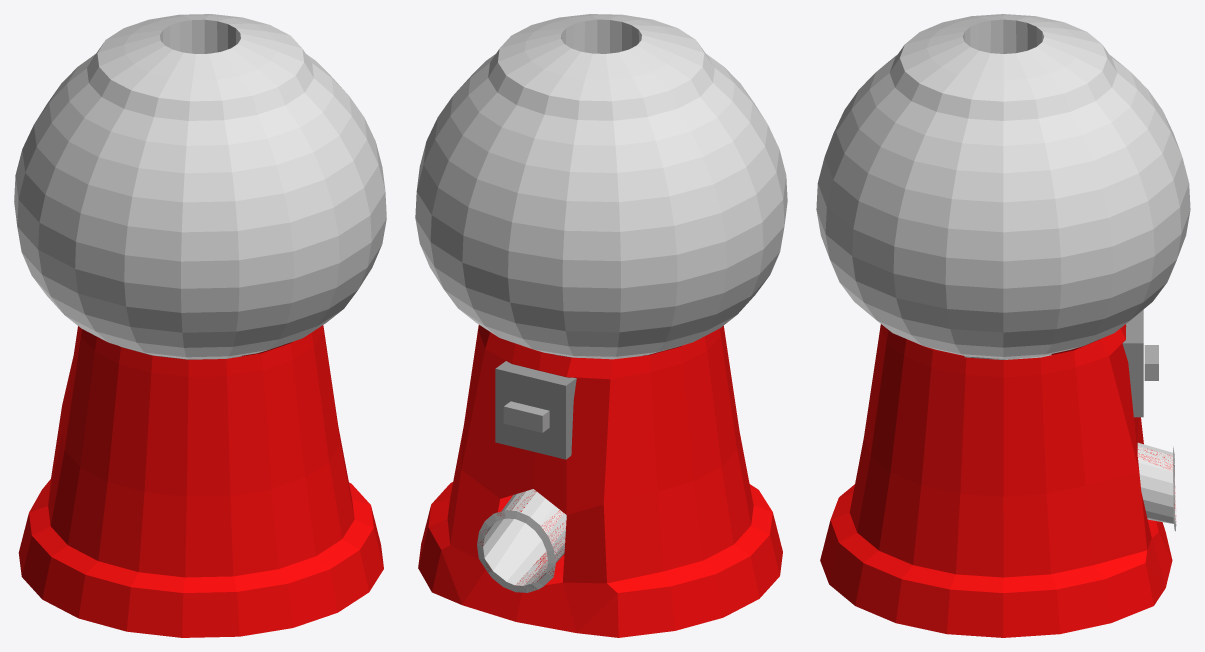
The model's file is GUMBALL.dae.
3 renders of one model, left to right at view 1: azimuth 30°, elevation 25°; view 2: azimuth 150°, elevation 25°; view 3: azimuth 270°, elevation 25°, orthographic.
Visible parts, largest first — view 1: Mesh; view 2: Mesh; view 3: Mesh.
Part boxes in pixels (bbox=[...]): Mesh: bbox=[14, 14, 386, 637]; Mesh: bbox=[415, 14, 787, 637]; Mesh: bbox=[816, 14, 1190, 637].
Size of the model in its own units: 3.34 by 5.16 by 3.34.
